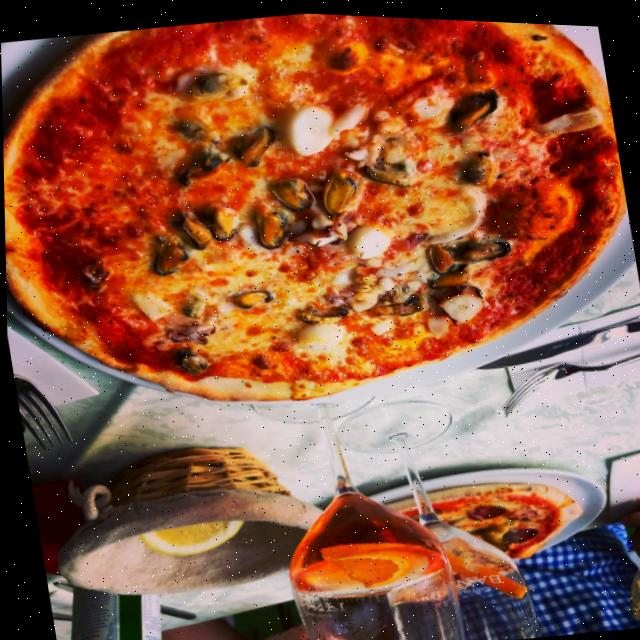pepperoni: (461, 497, 504, 520), (504, 520, 536, 541)
pizza: (0, 0, 640, 449), (378, 460, 589, 574)
